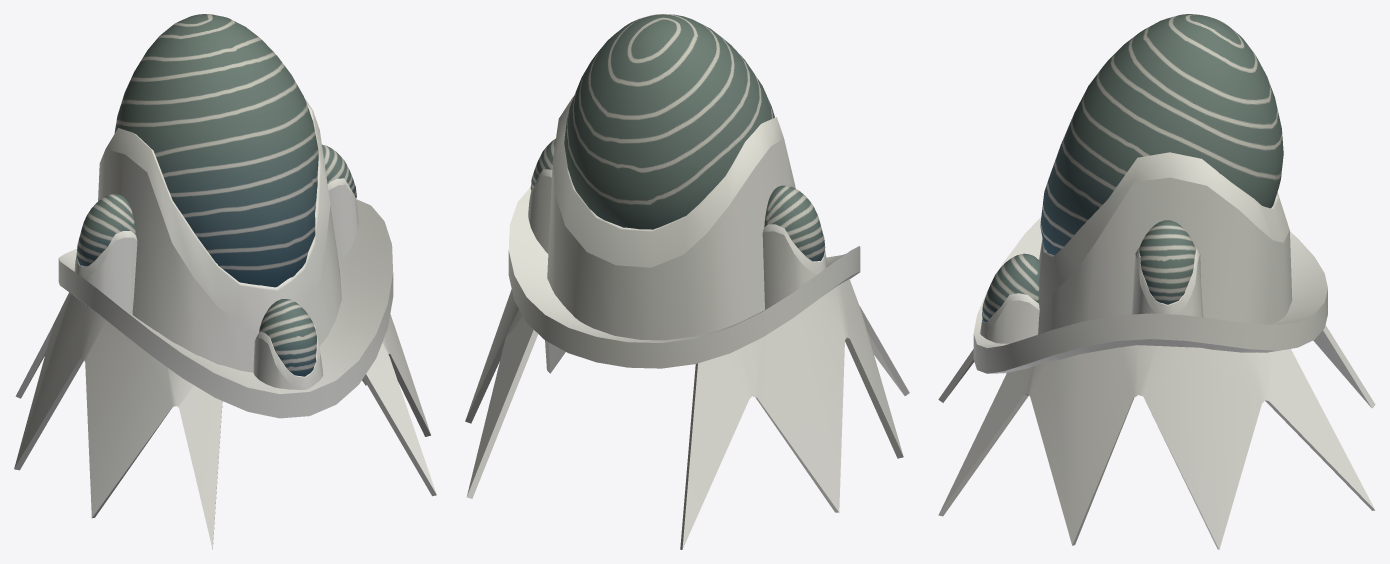
Rendered from mapa completo.fbx.
3 renders of one model, left to right at view 1: azimuth 30°, elevation 25°; view 2: azimuth 150°, elevation 25°; view 3: azimuth 270°, elevation 25°, orthographic. The views are drawn at different scales.
Visible parts, largest first — view 1: torre_principal1; view 2: torre_principal1; view 3: torre_principal1.
Part boxes in pixels (x1,y1,x2,y2): torre_principal1: (14,14,436,549); torre_principal1: (465,14,909,549); torre_principal1: (938,14,1375,549).
Bounding box in the file's own units: 39.76 × 44.52 × 40.
